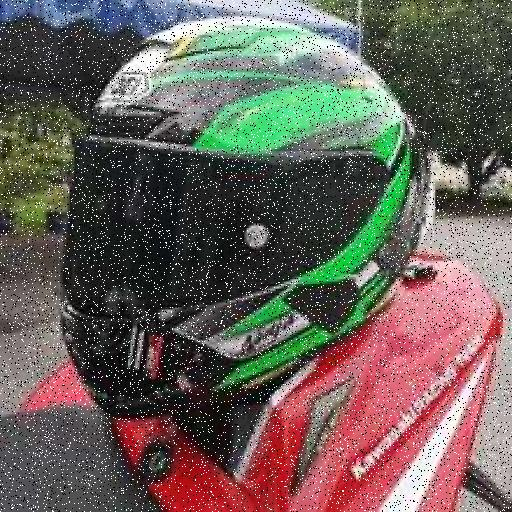Helmet: (62, 18, 431, 415)
